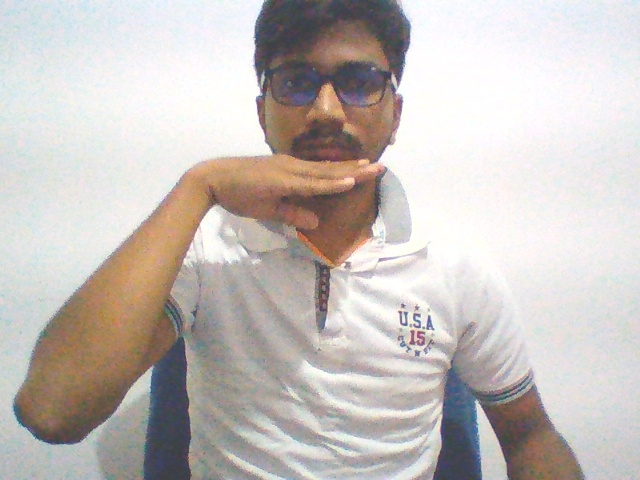elephant: (181, 150, 399, 232)
